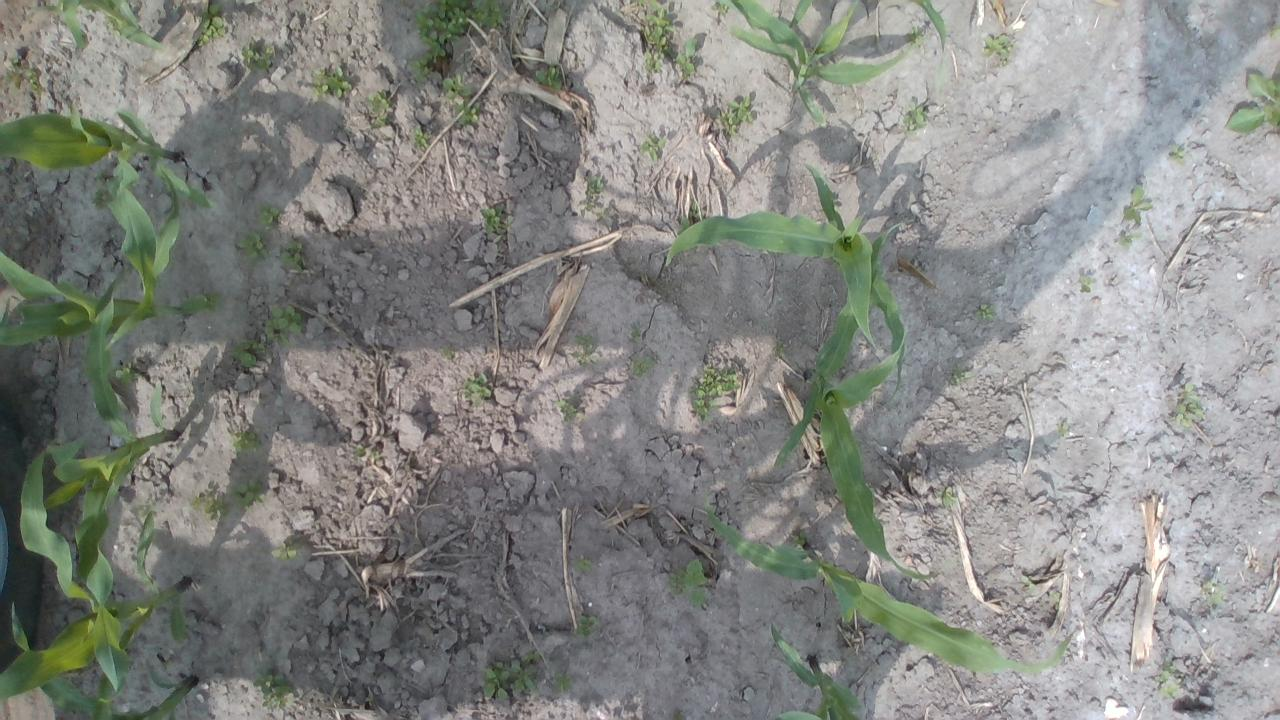Maize: (700, 498, 1076, 678), (775, 221, 936, 582), (663, 162, 908, 397), (42, 301, 179, 701), (0, 439, 191, 720), (0, 104, 218, 298), (0, 240, 208, 352), (718, 0, 904, 122), (10, 600, 198, 720), (770, 623, 864, 720), (790, 0, 947, 51), (63, 0, 163, 49)
Weeds: (1224, 72, 1280, 134), (414, 0, 470, 41), (483, 657, 534, 701), (638, 0, 675, 56), (670, 559, 706, 608), (264, 304, 304, 348), (1173, 381, 1207, 428), (694, 365, 738, 398), (718, 95, 753, 136), (310, 66, 352, 100), (255, 672, 291, 708), (197, 3, 225, 48), (480, 205, 513, 242), (6, 54, 39, 90), (1124, 185, 1152, 226), (190, 492, 228, 522), (237, 231, 266, 268), (469, 0, 506, 29), (230, 338, 264, 369), (368, 88, 394, 128), (232, 480, 264, 510), (981, 34, 1011, 66), (463, 373, 492, 406), (278, 239, 306, 272), (675, 38, 698, 78), (582, 174, 604, 212), (94, 172, 116, 210), (439, 75, 474, 98), (239, 48, 273, 71), (902, 102, 928, 131), (230, 430, 260, 455), (640, 135, 666, 163), (454, 100, 480, 127), (535, 66, 562, 92), (112, 362, 140, 386), (574, 612, 598, 640), (574, 335, 594, 365), (1202, 579, 1226, 604), (693, 398, 716, 424), (414, 54, 434, 82), (631, 355, 656, 376), (936, 485, 957, 509), (202, 292, 225, 313), (256, 204, 280, 224), (422, 40, 447, 59), (950, 367, 976, 385), (1157, 658, 1176, 682), (270, 542, 296, 559), (556, 398, 578, 418), (906, 25, 924, 49), (644, 52, 665, 72), (412, 128, 432, 148), (976, 304, 999, 321), (1160, 681, 1181, 698), (554, 671, 570, 692), (1118, 232, 1142, 246), (1020, 576, 1038, 594), (1078, 274, 1096, 292), (1168, 145, 1186, 163), (676, 216, 692, 236), (712, 0, 729, 17), (104, 15, 119, 34), (522, 648, 542, 662), (793, 530, 809, 546), (134, 504, 149, 521), (356, 448, 379, 459), (575, 557, 593, 569), (441, 345, 455, 359), (1055, 421, 1068, 436), (46, 2, 62, 14), (1269, 22, 1280, 38), (1054, 591, 1062, 612), (774, 343, 784, 358), (630, 324, 640, 337), (690, 206, 699, 218)
